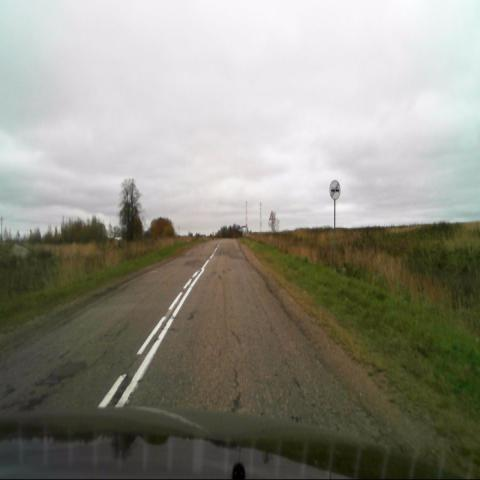3_21: (329, 178, 341, 200)
